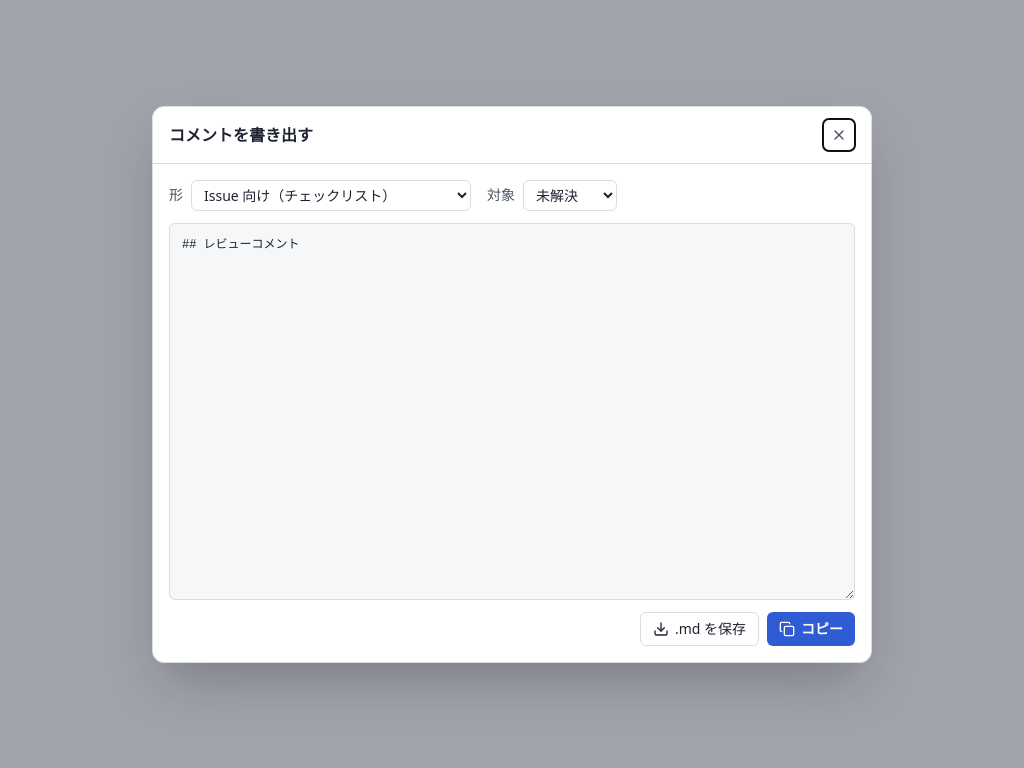
Scenario: MarkdownDialog › [正常系]形に JSON を選ぶと、JSON の中身を出し、保存のボタンが .json になる
Check: the text box named "書き出した Markdown" holds "## レビューコメント", box [169,222,855,600]
Check: the button ".md を保存" is shown, box [640,612,759,646]
Select "JSON（道具・AI に機械で読ませる）" in the dropdown labelled "形" at (331, 195), box [191,180,471,210]
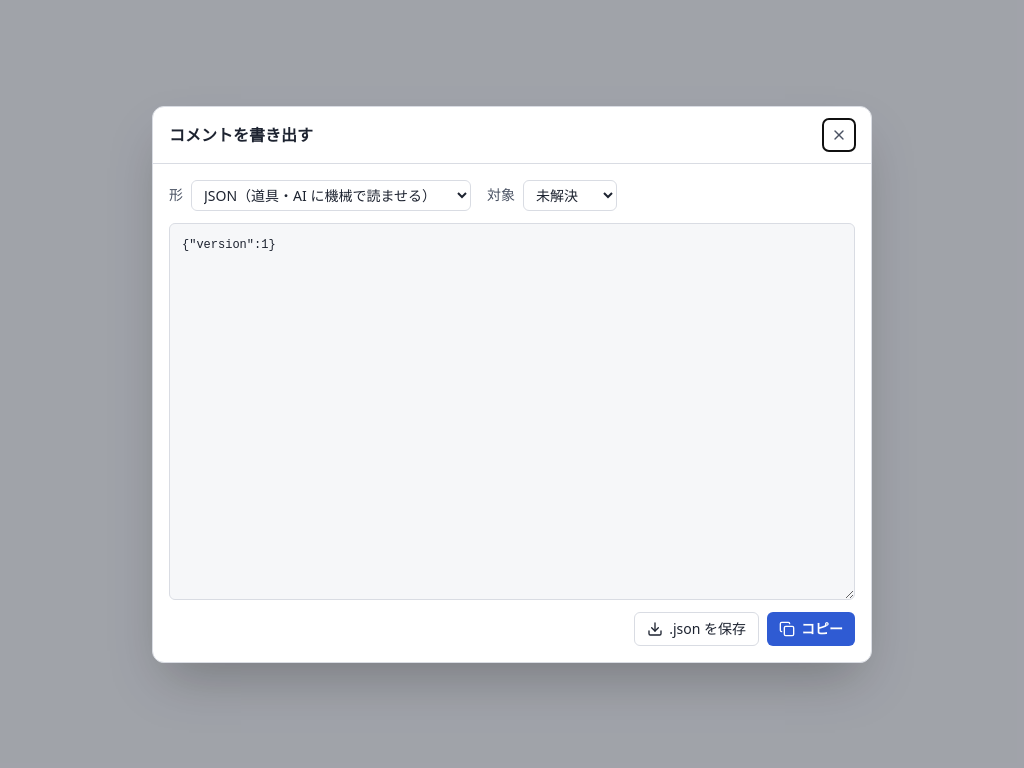
Check: the text box named "書き出した JSON" holds "{\"version\":1}", box [169,222,855,600]
Check: the button ".json を保存" is shown, box [634,612,759,646]
